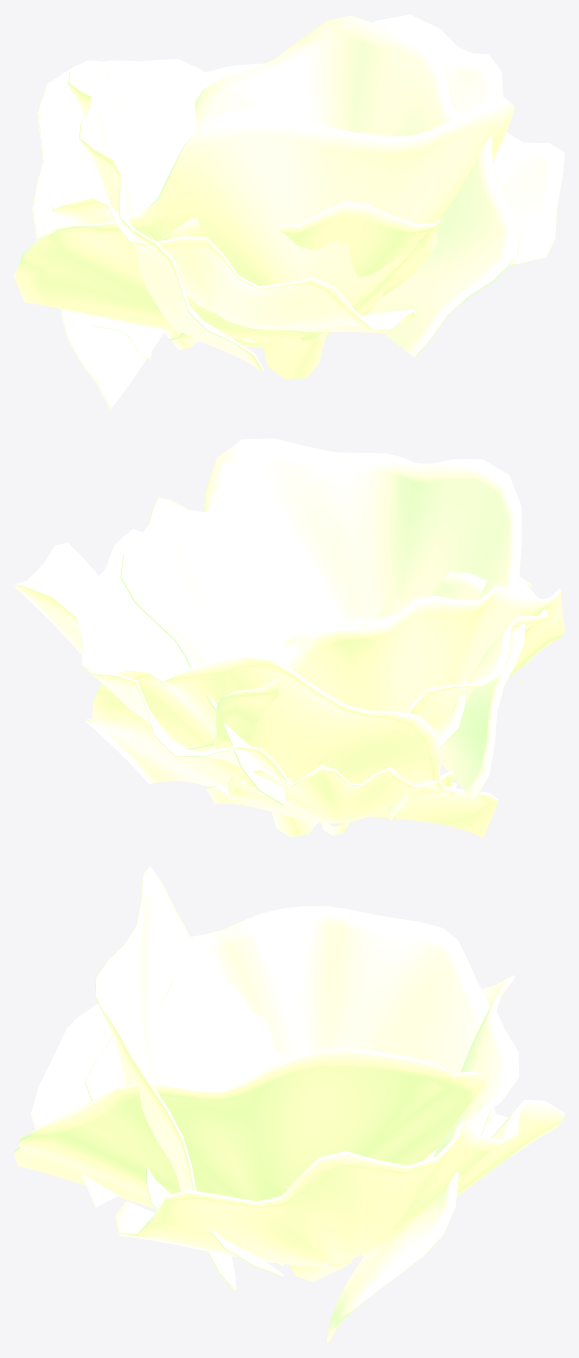
File: ghost_ground.glb
3 renders of one model, top to bottom at view 1: azimuth 30°, elevation 25°; view 2: azimuth 150°, elevation 25°; view 3: azimuth 270°, elevation 25°, orthographic. The views are drawn at different scales.
Visible parts, largest first — view 1: ghost_ground; view 2: ghost_ground; view 3: ghost_ground.
Boxes of the visible parts, left/top/right/bottom form: ghost_ground: left=14, top=14, right=564, bottom=409; ghost_ground: left=14, top=438, right=564, bottom=837; ghost_ground: left=14, top=866, right=564, bottom=1343.
Size of the model in its own units: 1.02 by 0.705 by 1.03.
